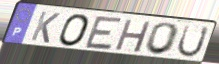E: (83, 15, 125, 52)
H: (113, 18, 153, 54)
K: (29, 10, 62, 45)
O: (143, 22, 182, 56), (58, 13, 92, 48)
U: (175, 23, 211, 59)
